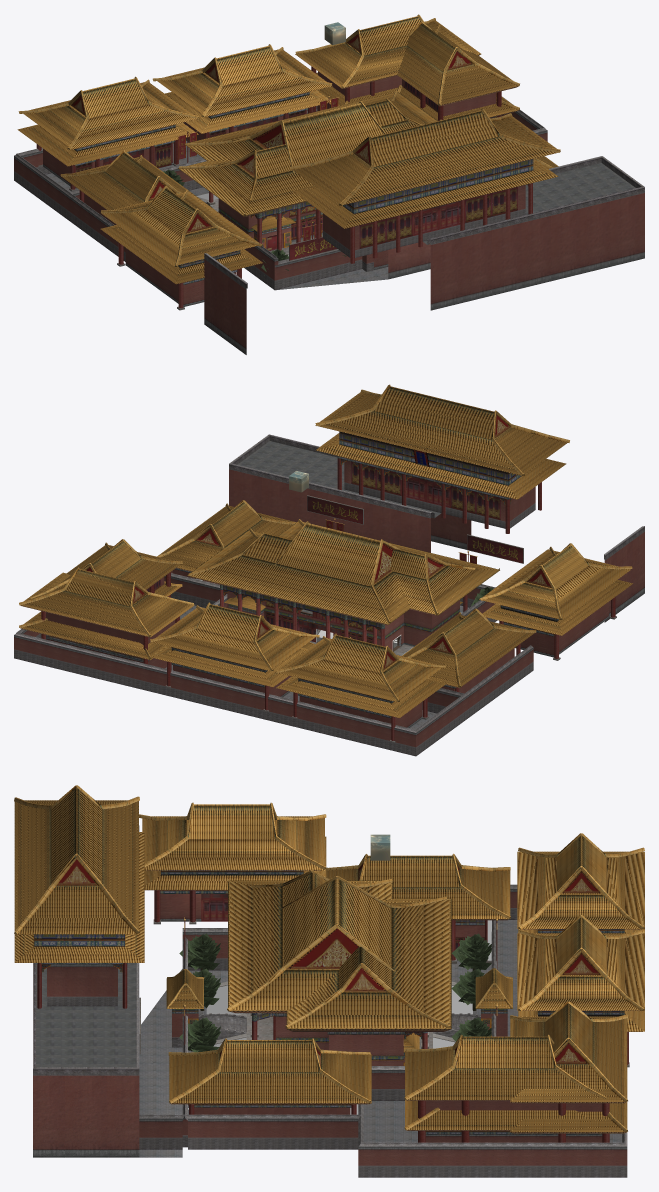
Rendered from ForbiddenTD_Classic.GLB.
The picture shows the model from 3 angles, top to bottom: view 1: azimuth 30°, elevation 25°; view 2: azimuth 150°, elevation 25°; view 3: azimuth 270°, elevation 25°; orthographic projection. The views are drawn at different scales.
Visible parts, largest first — view 1: Section_0042, Section_0008 (×6), Section_0039, Section_0006 (×7), Section_0013, Section_0005 (×4), Section_0007 (×3), Section_0004 (×2), Section_0011 (×2), Section_0040, Section_0050, Section_0009 (×2) (+10 smaller); view 2: Section_0042, Section_0008 (×6), Section_0006 (×5), Section_0039, Section_0013, Section_0009 (×2), Section_0011 (×2), Section_0040, Section_0004 (×3), Section_0005 (×3), Section_0010, Section_0050 (+8 smaller); view 3: Section_0042, Section_0008 (×6), Section_0005 (×4), Section_0006 (×8), Section_0004 (×7), Section_0013 (×2), Section_0003 (×3), Section_0050, Section_0011 (×3), Section_0009, Section_0007 (×2), Section_0048 (+7 smaller).
Part boxes in pixels (x1,y1,x2,y2): Section_0042: (162, 45, 560, 228); Section_0008 (×6): (100, 44, 560, 284); Section_0039: (21, 150, 644, 310); Section_0006 (×7): (62, 92, 644, 354); Section_0013: (17, 57, 246, 174); Section_0005 (×4): (66, 23, 547, 263); Section_0007 (×3): (221, 47, 519, 289); Section_0004 (×2): (66, 14, 480, 252); Section_0011 (×2): (14, 42, 481, 208); Section_0040: (17, 142, 644, 269); Section_0050: (423, 163, 635, 244); Section_0009 (×2): (89, 75, 401, 203); Section_0042: (149, 386, 565, 687); Section_0008 (×6): (136, 384, 633, 659); Section_0006 (×5): (158, 500, 644, 686); Section_0039: (173, 469, 471, 747); Section_0013: (253, 615, 461, 717); Section_0009 (×2): (14, 576, 508, 698); Section_0011 (×2): (21, 559, 465, 746); Section_0040: (15, 434, 505, 756); Section_0004 (×3): (19, 563, 533, 710); Section_0005 (×3): (58, 487, 535, 719); Section_0010: (14, 573, 226, 707); Section_0050: (237, 441, 441, 641); Section_0042: (14, 788, 644, 1031); Section_0008 (×6): (14, 785, 644, 1103); Section_0005 (×4): (33, 964, 587, 1157); Section_0006 (×8): (33, 866, 509, 1103); Section_0004 (×7): (167, 933, 627, 1177); Section_0013 (×2): (57, 833, 644, 978); Section_0003 (×3): (139, 937, 627, 1165); Section_0050: (35, 963, 136, 1067); Section_0011 (×3): (161, 870, 627, 1131); Section_0009: (341, 853, 488, 908); Section_0007 (×2): (170, 1029, 462, 1129); Section_0048: (139, 962, 518, 1157).
Size of the model in its own units: 175 by 64.05 by 166.
55 materials, 53 textured.
